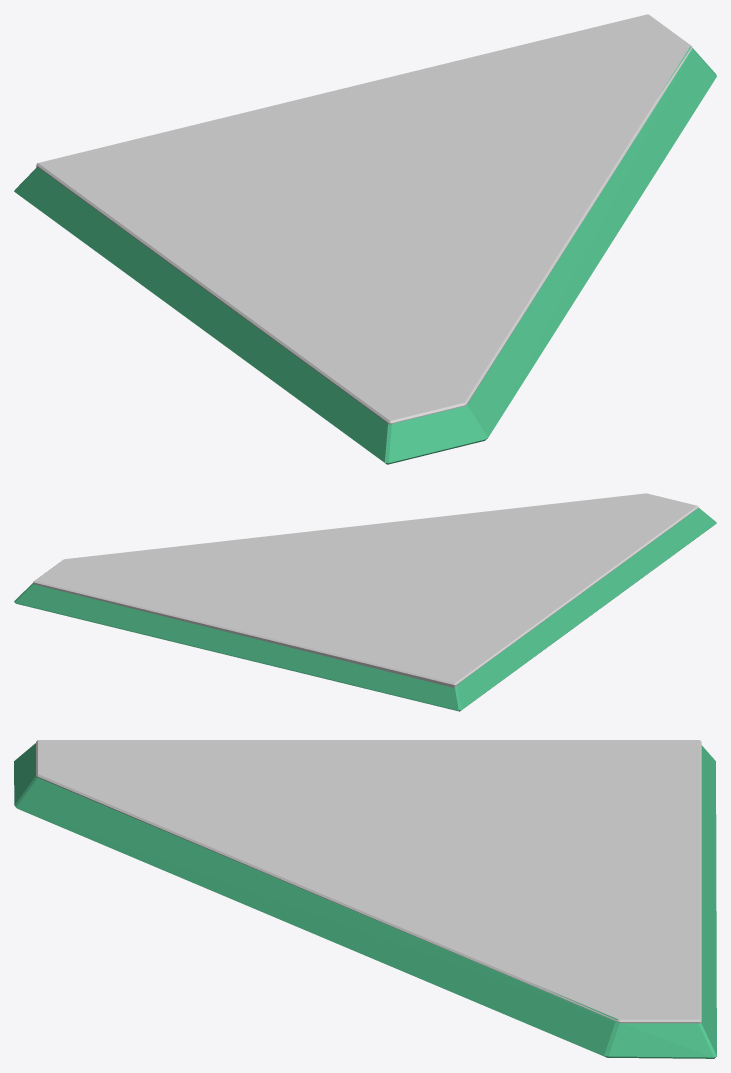
Rendered from gm_curb_diagonal_01.dae.
3 renders of one model, top to bottom at view 1: azimuth 30°, elevation 25°; view 2: azimuth 150°, elevation 25°; view 3: azimuth 270°, elevation 25°, orthographic. The views are drawn at different scales.
Visible parts, largest first — view 1: ind_bld_c10, Colmesh-1; view 2: ind_bld_c10, Colmesh-1; view 3: ind_bld_c10, Colmesh-1.
Part boxes in pixels (x1,y1,x2,y2): ind_bld_c10: [36, 14, 692, 424]; Colmesh-1: [14, 46, 716, 464]; ind_bld_c10: [33, 493, 698, 687]; Colmesh-1: [14, 508, 716, 711]; ind_bld_c10: [36, 740, 701, 1023]; Colmesh-1: [14, 743, 716, 1058].
Size of the model in its own units: 8.46 by 8.45 by 0.4012.
